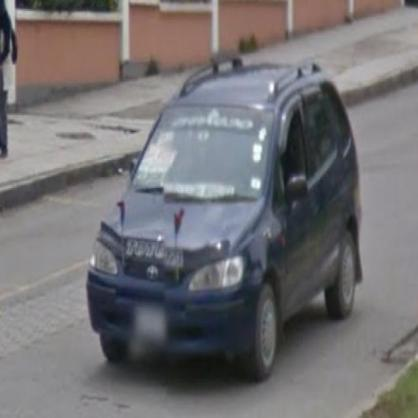car: (91, 55, 366, 382)
